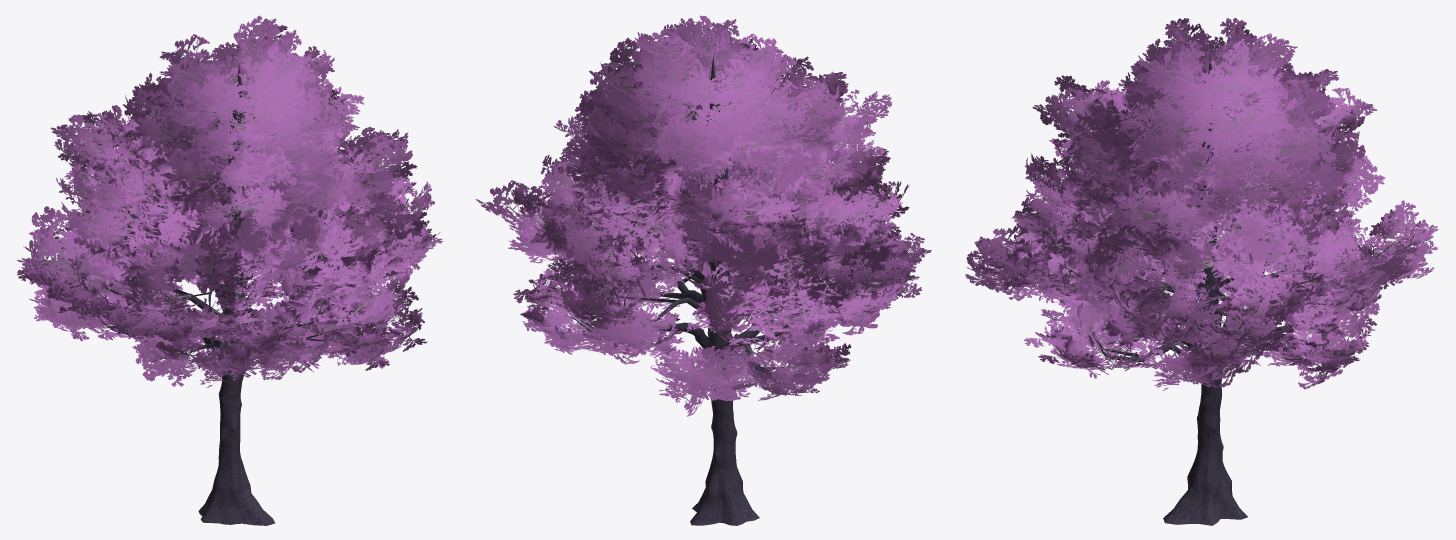
3 views of the same model, side by side, from view 1: azimuth 30°, elevation 25°; view 2: azimuth 150°, elevation 25°; view 3: azimuth 270°, elevation 25° (orthographic). The views are drawn at different scales.
Parts seen in each view (by area): view 1: SM_FH_Oak_Tree_01_LOD0; view 2: SM_FH_Oak_Tree_01_LOD0; view 3: SM_FH_Oak_Tree_01_LOD0.
Boxes of the visible parts, x1=… form: SM_FH_Oak_Tree_01_LOD0: x1=17, y1=15, x2=442, y2=525; SM_FH_Oak_Tree_01_LOD0: x1=475, y1=15, x2=931, y2=525; SM_FH_Oak_Tree_01_LOD0: x1=965, y1=18, x2=1438, y2=525.
Size of the model in its own units: 18.67 by 20.2 by 17.95.
Materials: 2 (2 with a texture image).
